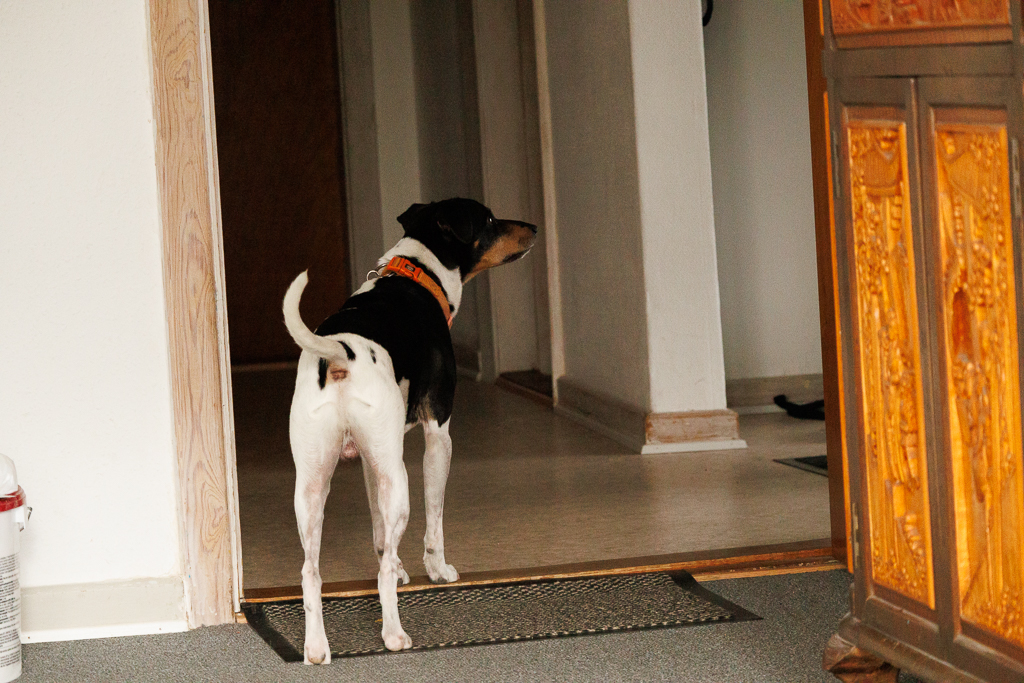Dog: (269, 189, 545, 674)
